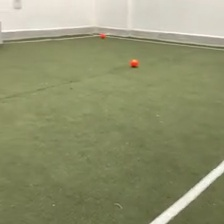ball: (129, 56, 139, 68), (98, 32, 106, 39)
